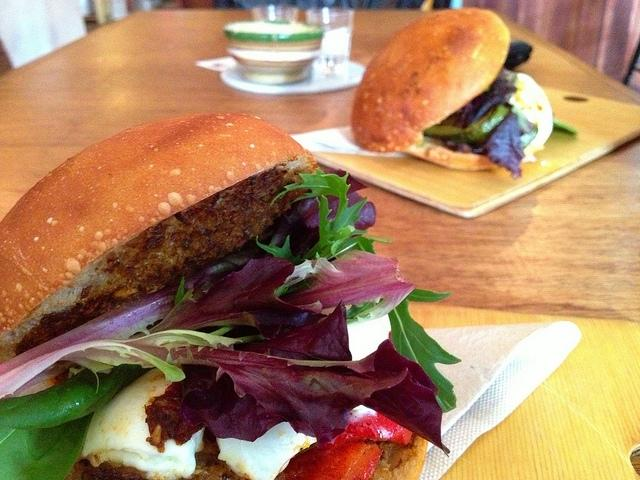lettuce: (1, 169, 376, 376), (1, 329, 450, 458), (0, 364, 157, 480), (148, 257, 328, 339), (346, 288, 462, 412), (257, 168, 392, 266), (144, 365, 288, 452), (278, 249, 417, 324), (442, 99, 538, 182), (233, 300, 352, 361), (441, 68, 516, 130), (424, 103, 512, 145), (504, 39, 532, 70), (553, 119, 578, 134)
